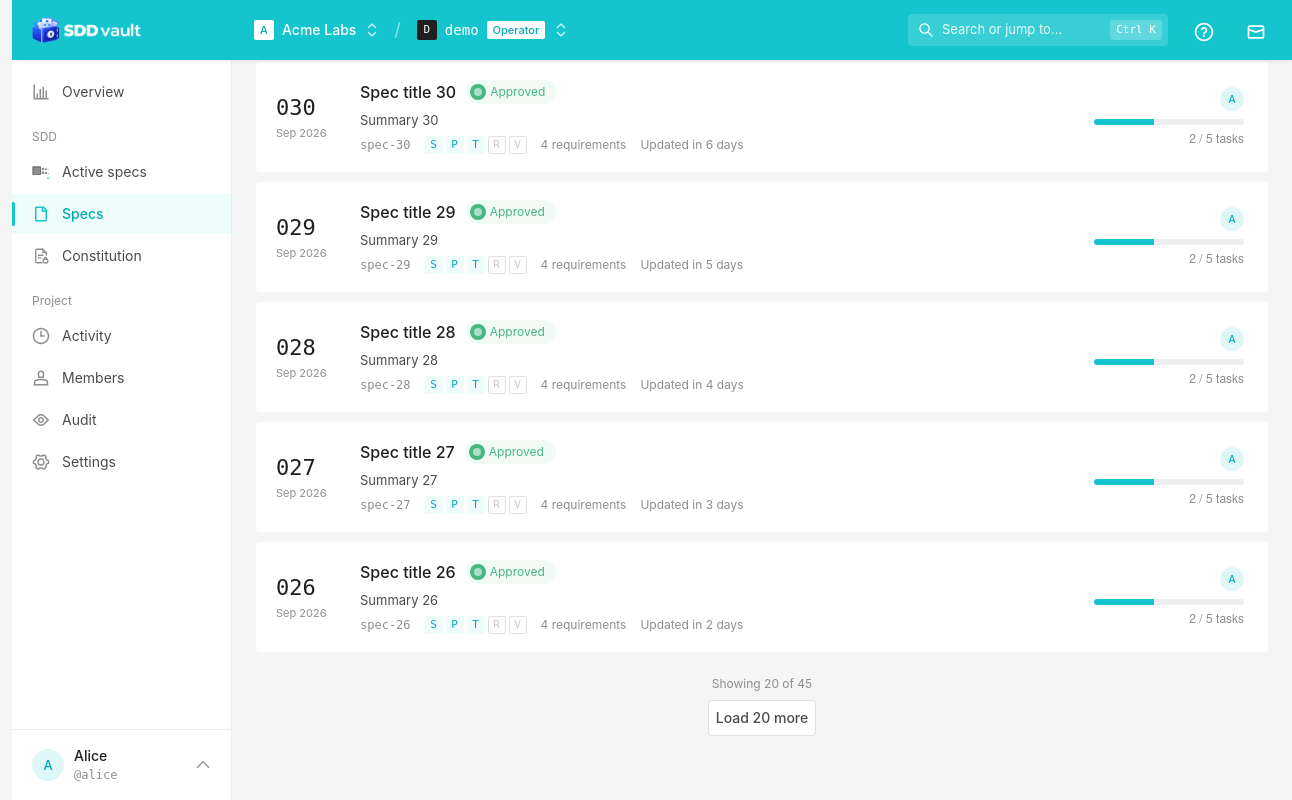
it: twenty cards are shown at a time with Load more and the showing count
This screenshot has width=1292, height=800.
(page scrolled)
Expected: the text "Showing 20 of 45" is shown, left=712, top=676, right=812, bottom=692
Click the button "Load 20 more": (762, 718) left=708, top=700, right=816, bottom=736
(page scrolled)
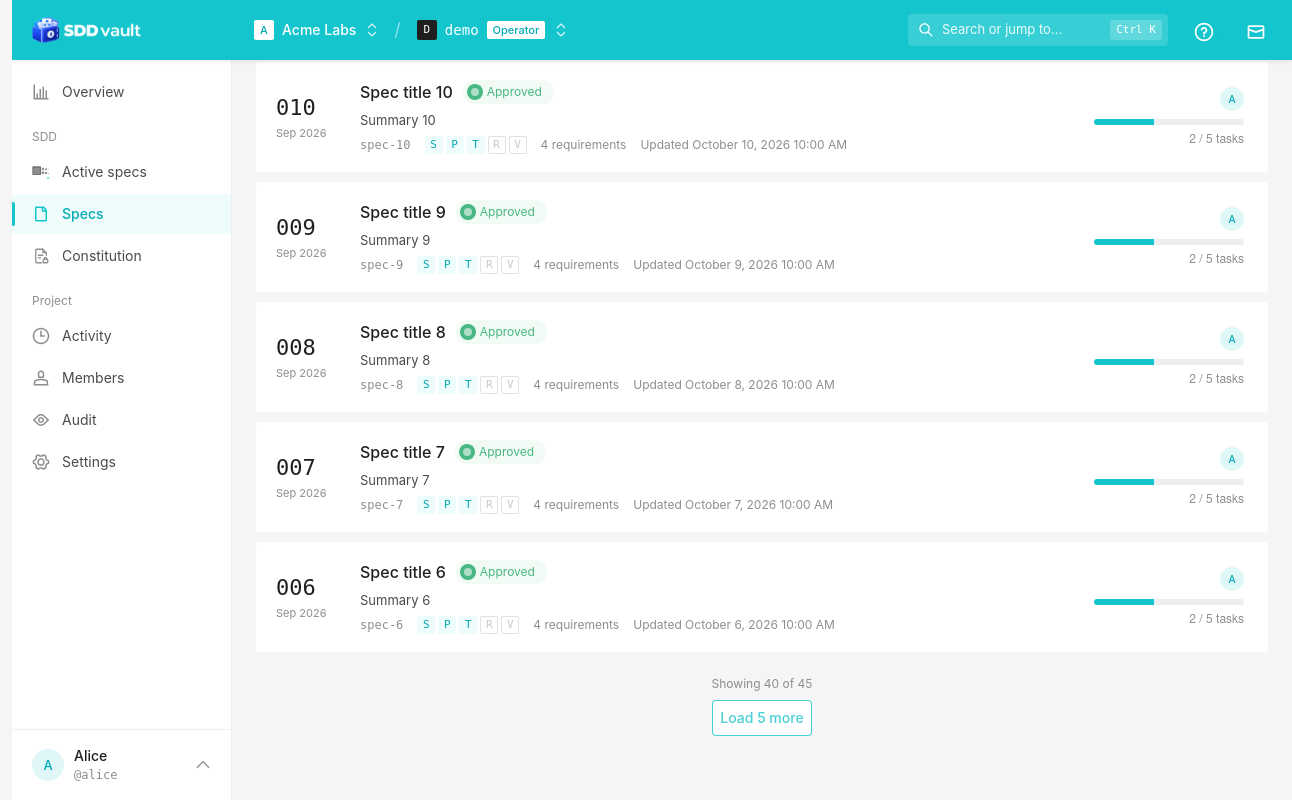
Click the button "Load 5 more": (762, 718) left=712, top=700, right=812, bottom=736
(page scrolled)
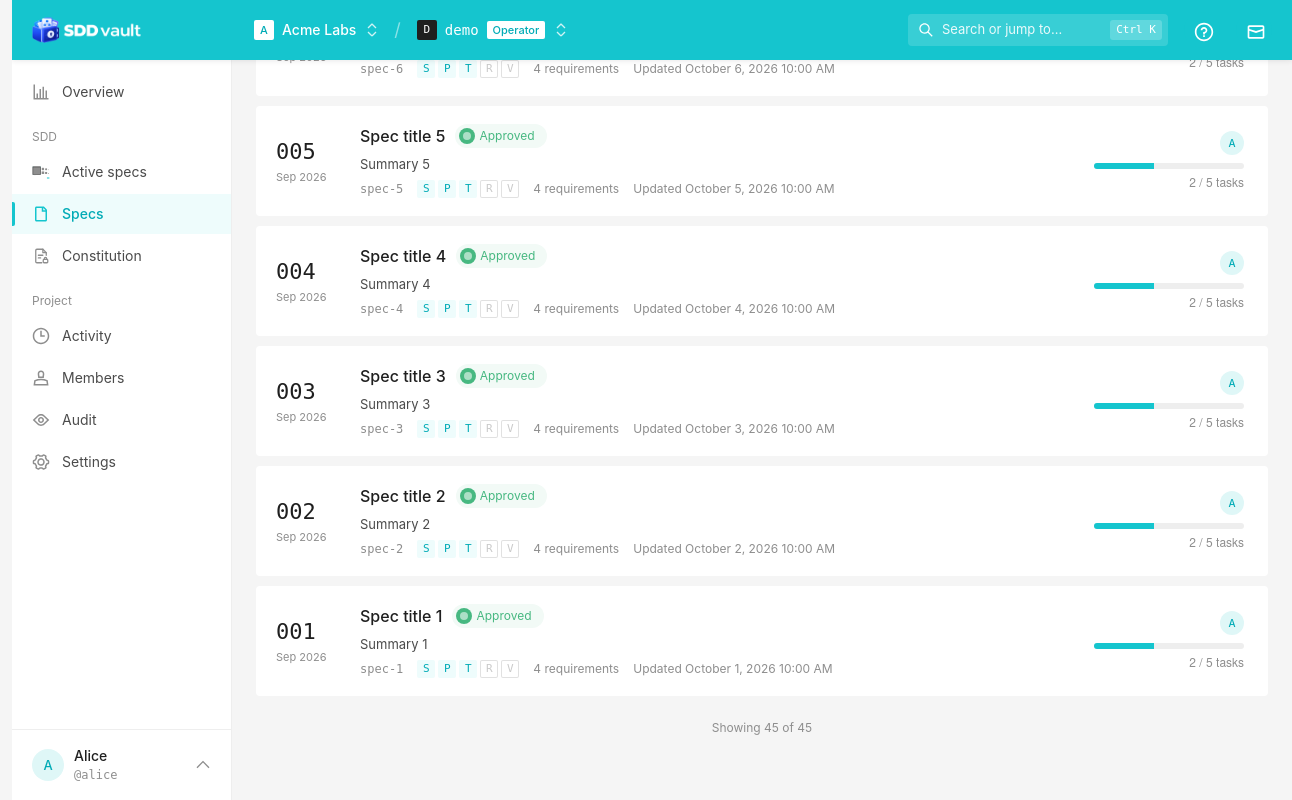
Expected: the text "Showing 45 of 45" is shown, left=712, top=720, right=812, bottom=736
Expected: the button "Load" is gone
